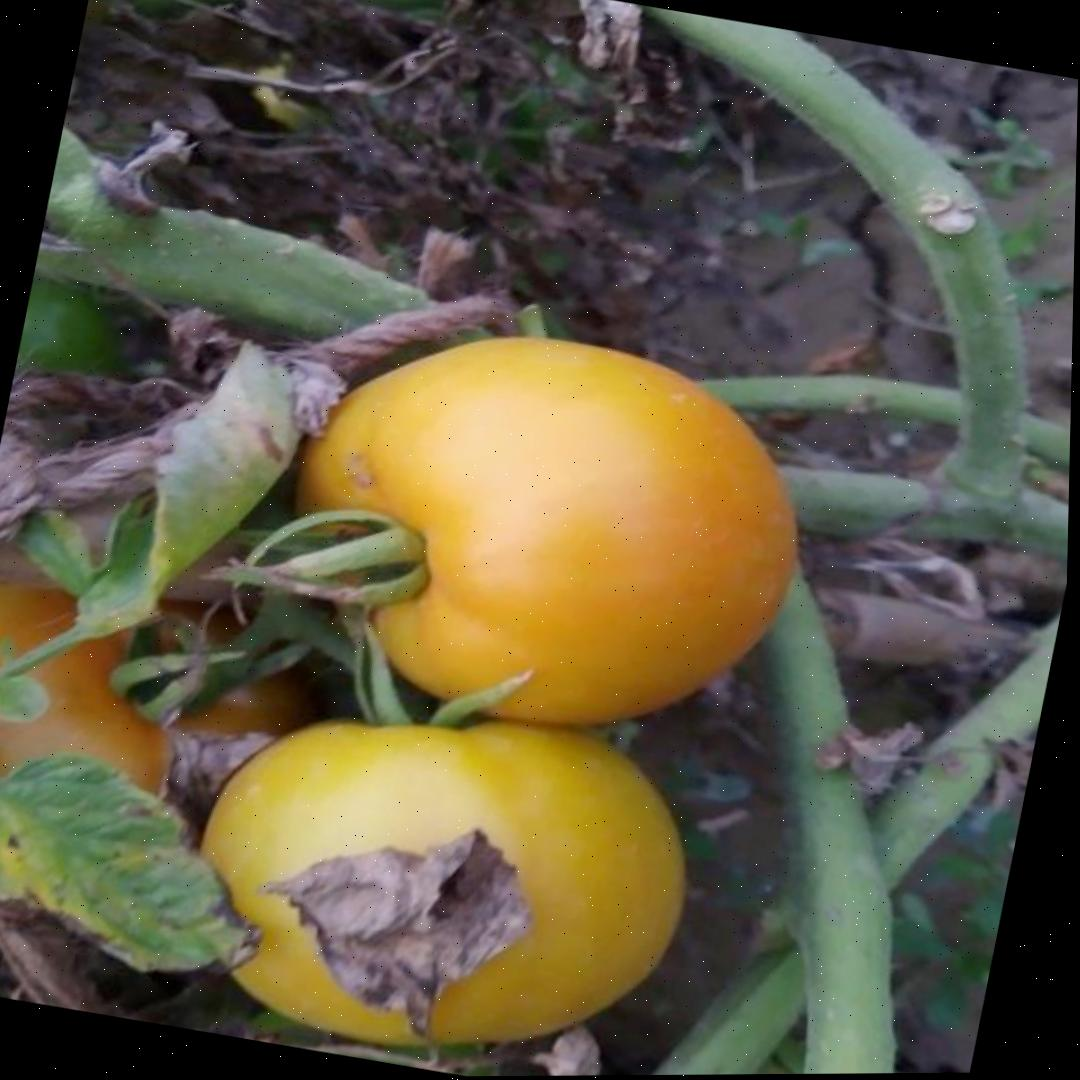setengah_matang: (242, 290, 833, 767), (156, 659, 722, 1079)
